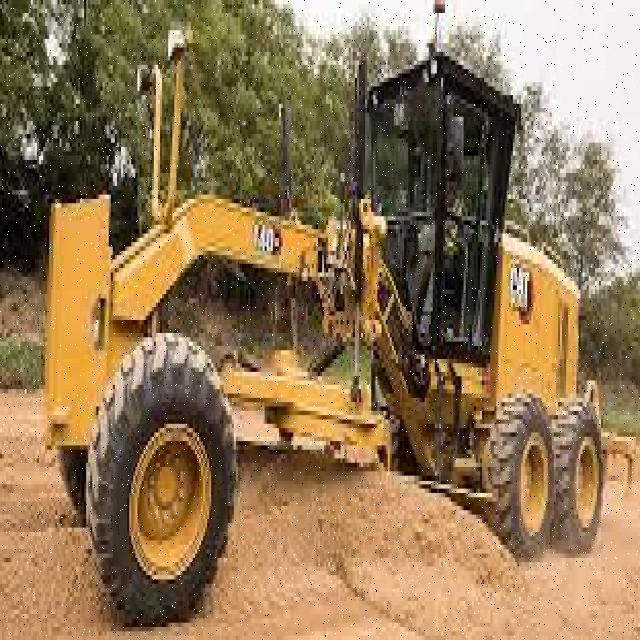Grader: (33, 35, 640, 614)
